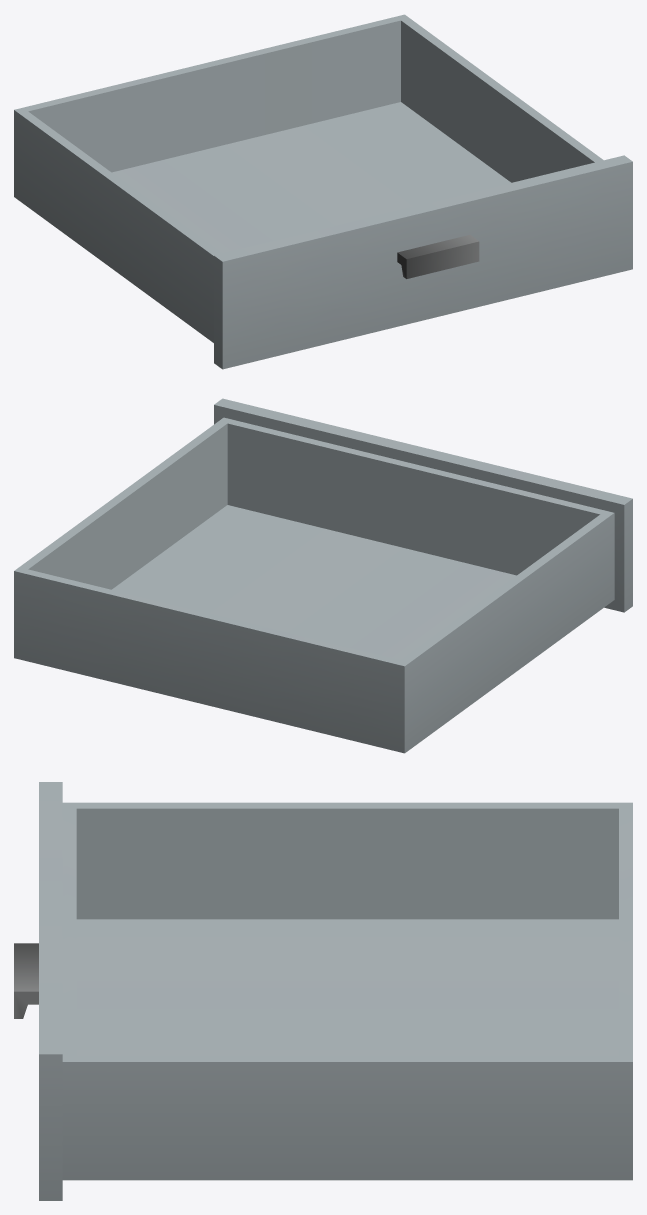
Rendered from Drawer_SideboardCabinet_WhiteGray_small.fbx.
3 views of the same model, one above another, from view 1: azimuth 30°, elevation 25°; view 2: azimuth 150°, elevation 25°; view 3: azimuth 270°, elevation 25° (orthographic). The views are drawn at different scales.
Parts seen in each view (by area): view 1: Drawer_SideboardCabinet_WhiteGray_small; view 2: Drawer_SideboardCabinet_WhiteGray_small; view 3: Drawer_SideboardCabinet_WhiteGray_small.
Boxes of the visible parts, x1=… form: Drawer_SideboardCabinet_WhiteGray_small: x1=14, y1=14, x2=632, y2=369; Drawer_SideboardCabinet_WhiteGray_small: x1=14, y1=398, x2=632, y2=753; Drawer_SideboardCabinet_WhiteGray_small: x1=14, y1=782, x2=632, y2=1200.
Bounding box in the file's own units: 67.5 × 16.92 × 64.83.
